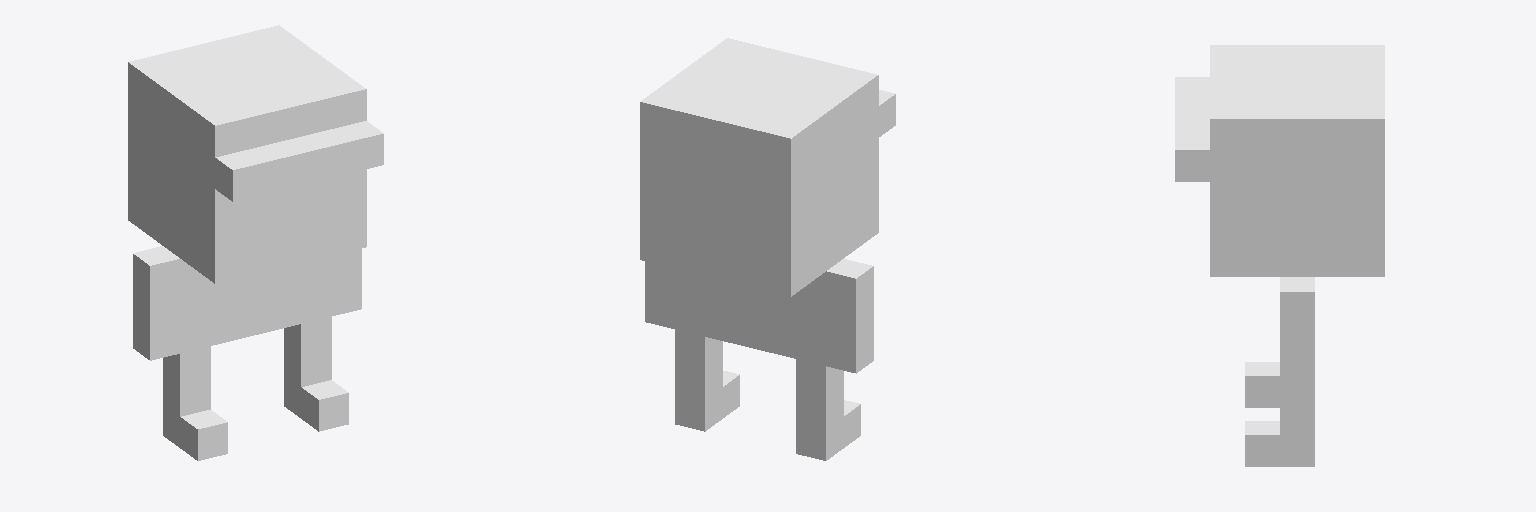
The model's file is people.obj.
3 renders of one model, left to right at view 1: azimuth 30°, elevation 25°; view 2: azimuth 150°, elevation 25°; view 3: azimuth 270°, elevation 25°, orthographic.
Parts seen in each view (by area): view 1: object 1; view 2: object 1; view 3: object 1.
Boxes of the visible parts, box(x1,y1,x2,y2) form: object 1: box(128, 25, 383, 460); object 1: box(640, 38, 895, 460); object 1: box(1175, 45, 1384, 466).
Size of the model in its own units: 0.7 by 1.1 by 0.6.